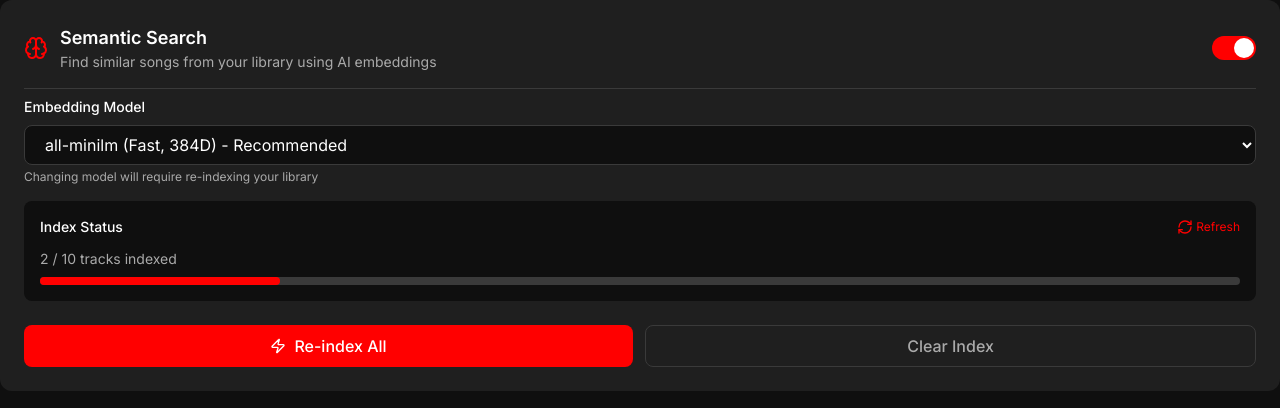
Test: SemanticSettings semantic index progress listener › curăță listener-ul, finalizează progresul și face refresh la succes
The width and height of the screenshot is (1280, 408).
What coordinates should you click on to do the following:
click the button "Re-index All"
I would click on:
 (328, 346)
Its box is 24,325 -> 633,367.
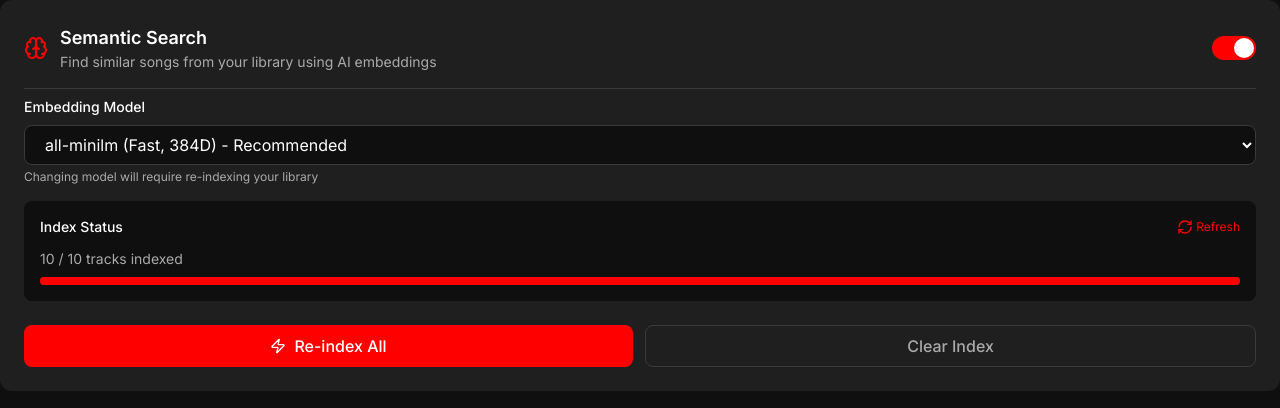
Now the text "10 / 10 tracks indexed" is shown, box 40,250 -> 183,267
